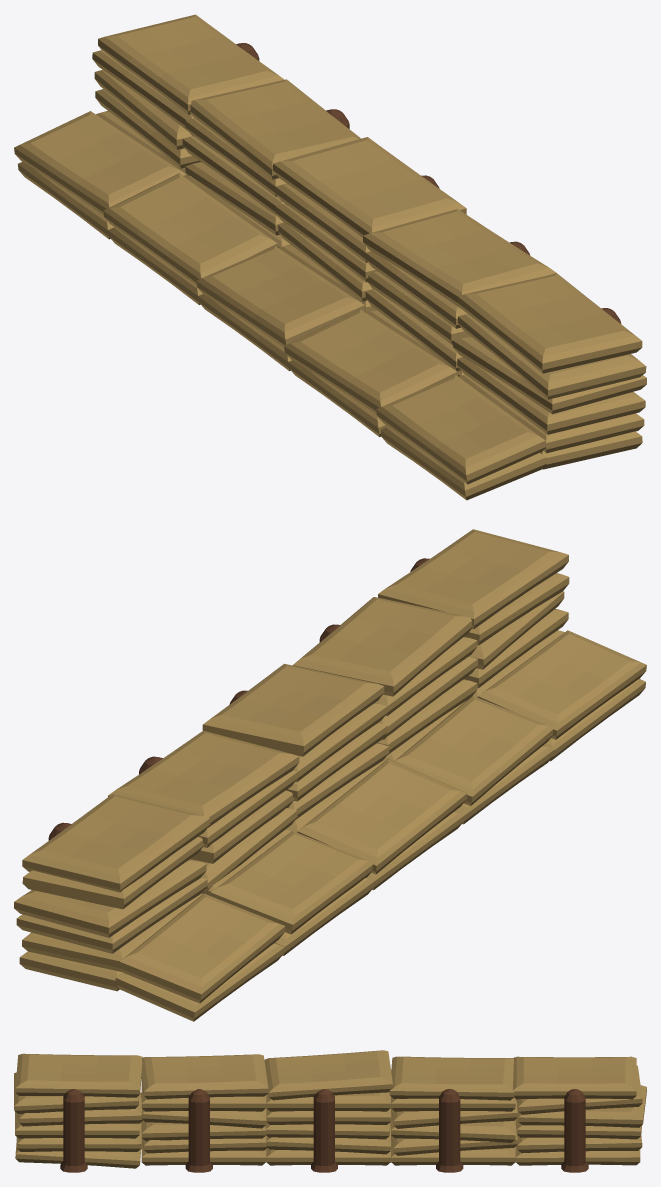
File: Sandbags.fbx
3 views of the same model, one above another, from view 1: azimuth 30°, elevation 25°; view 2: azimuth 150°, elevation 25°; view 3: azimuth 270°, elevation 25° (orthographic). The views are drawn at different scales.
Parts seen in each view (by area): view 1: Sandbag, Barrier; view 2: Sandbag, Barrier; view 3: Sandbag, Barrier.
Part boxes in pixels (bbox=[...]): Sandbag: bbox=[14, 14, 646, 500]; Barrier: bbox=[236, 43, 621, 323]; Sandbag: bbox=[14, 529, 646, 1021]; Barrier: bbox=[48, 558, 429, 840]; Sandbag: bbox=[14, 1050, 646, 1168]; Barrier: bbox=[60, 1089, 588, 1172].
Size of the model in its own units: 437 by 286 by 1725.
